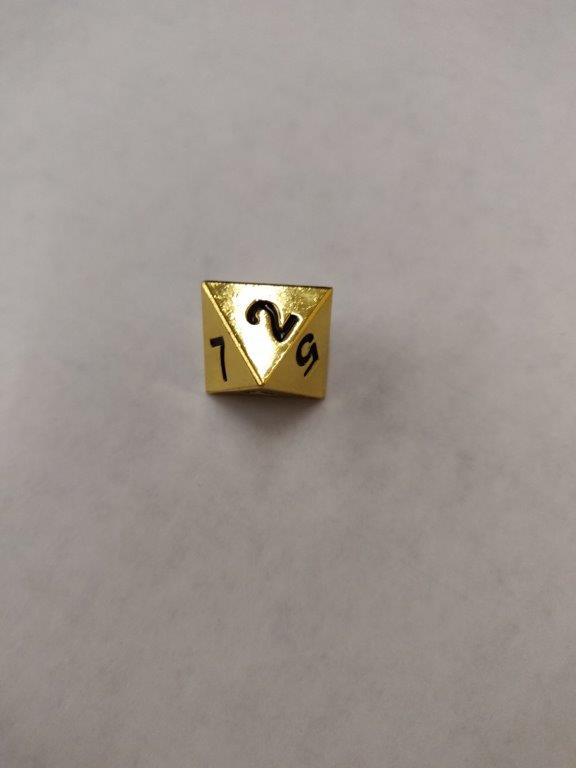d8-2: (201, 278, 336, 402)
